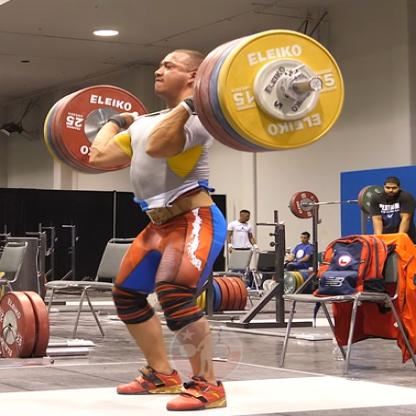Barbell: (186, 25, 360, 152)
